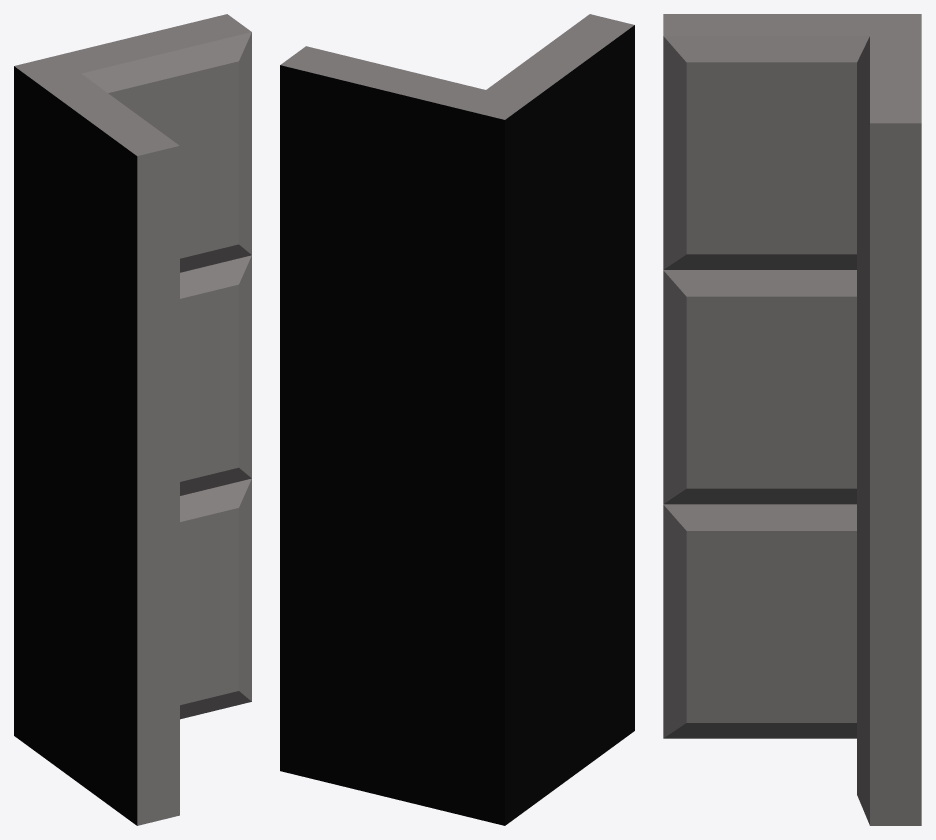
Rendered from scifi-wall-corner.glb.
3 views of the same model, side by side, from view 1: azimuth 30°, elevation 25°; view 2: azimuth 150°, elevation 25°; view 3: azimuth 270°, elevation 25° (orthographic). The views are drawn at different scales.
Parts seen in each view (by area): view 1: scifi-wall-corner; view 2: scifi-wall-corner; view 3: scifi-wall-corner.
Boxes of the visible parts, x1,y1,x2,y2 form: scifi-wall-corner: (14, 14, 251, 825); scifi-wall-corner: (280, 14, 634, 825); scifi-wall-corner: (663, 14, 921, 825).
Bounding box in the file's own units: 1 × 3 × 1.
Materials: 1 (1 with a texture image).
